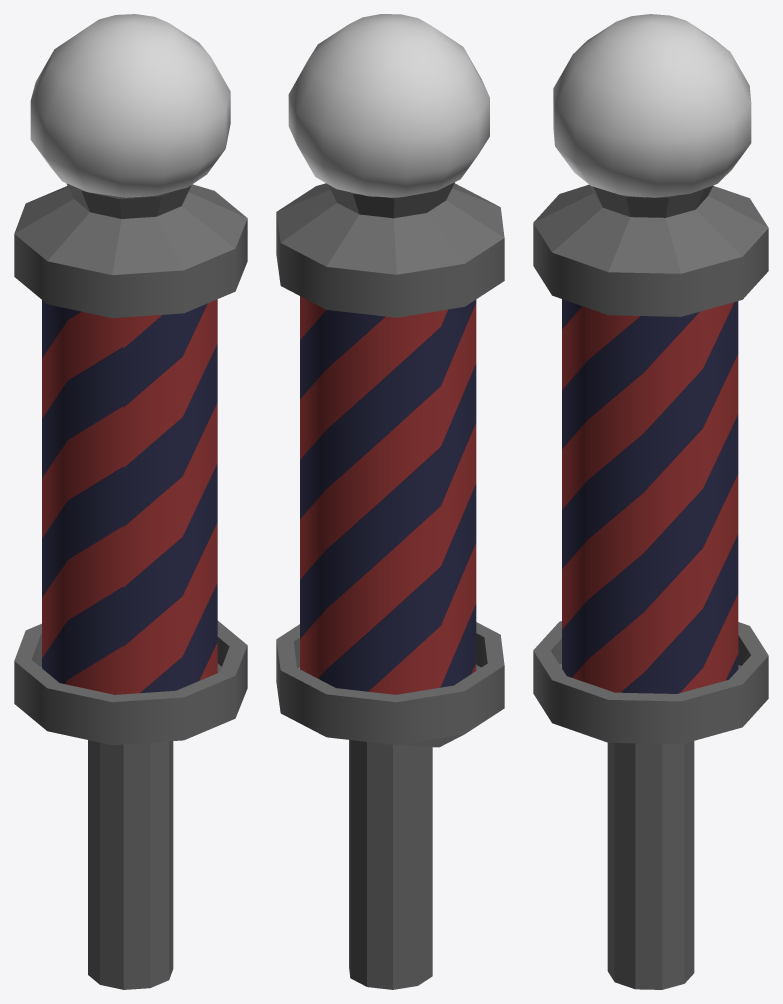
Rendered from CoisaQueGira.FBX.
3 renders of one model, left to right at view 1: azimuth 30°, elevation 25°; view 2: azimuth 150°, elevation 25°; view 3: azimuth 270°, elevation 25°, orthographic.
Visible parts, largest first — view 1: Cylinder001, Cylinder002; view 2: Cylinder001, Cylinder002; view 3: Cylinder001, Cylinder002.
Part boxes in pixels (box(x1,y1,x2,y2)): Cylinder001: box(14, 14, 247, 989); Cylinder002: box(42, 299, 217, 694); Cylinder001: box(276, 14, 504, 989); Cylinder002: box(300, 296, 476, 694); Cylinder001: box(533, 14, 768, 989); Cylinder002: box(562, 299, 738, 693).
Bounding box in the file's own units: 0.9683 × 4.44 × 0.9979.
